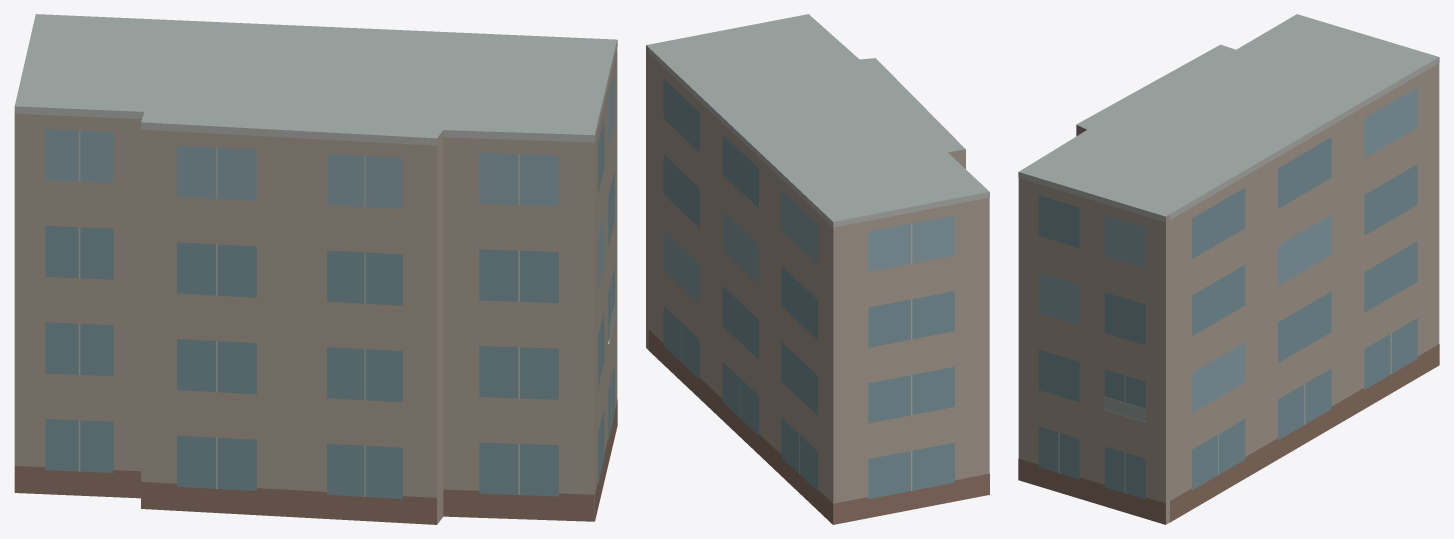
File: survey-upis-32615516.glb
3 renders of one model, left to right at view 1: azimuth 30°, elevation 25°; view 2: azimuth 150°, elevation 25°; view 3: azimuth 270°, elevation 25°, orthographic. The views are drawn at different scales.
Visible parts, largest first — view 1: survey-upis-32615516.tmp; view 2: survey-upis-32615516.tmp; view 3: survey-upis-32615516.tmp.
Boxes of the visible parts, bbox=[...] form: survey-upis-32615516.tmp: bbox=[14, 14, 617, 524]; survey-upis-32615516.tmp: bbox=[646, 14, 989, 524]; survey-upis-32615516.tmp: bbox=[1018, 14, 1439, 524].
Bounding box in the file's own units: 18.05 × 12.8 × 15.85.
